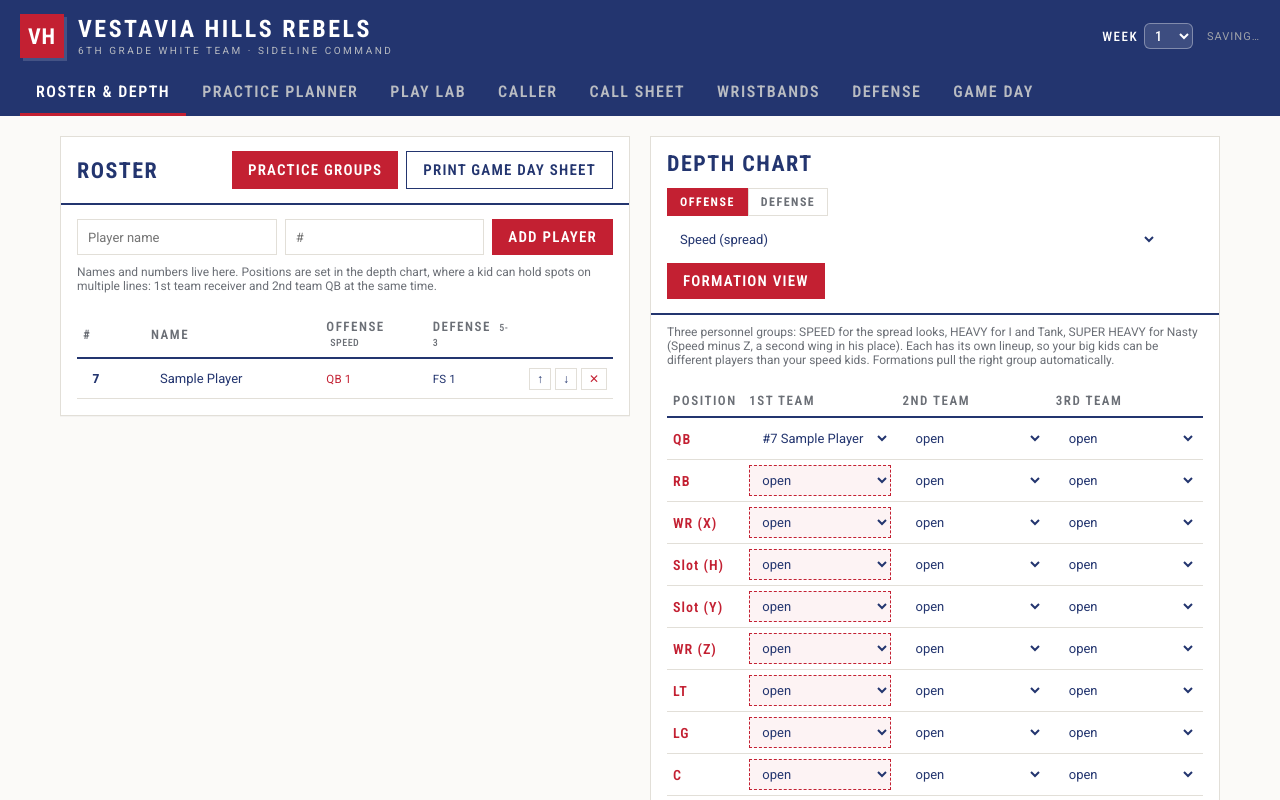
it: supabase sync › Print Cards works from inside Formation View
Expected: the text "VESTAVIA HILLS REBELS" is shown, [78,16,393,40]
Click the button "Formation View" at (746, 281), box [667,263,825,299]
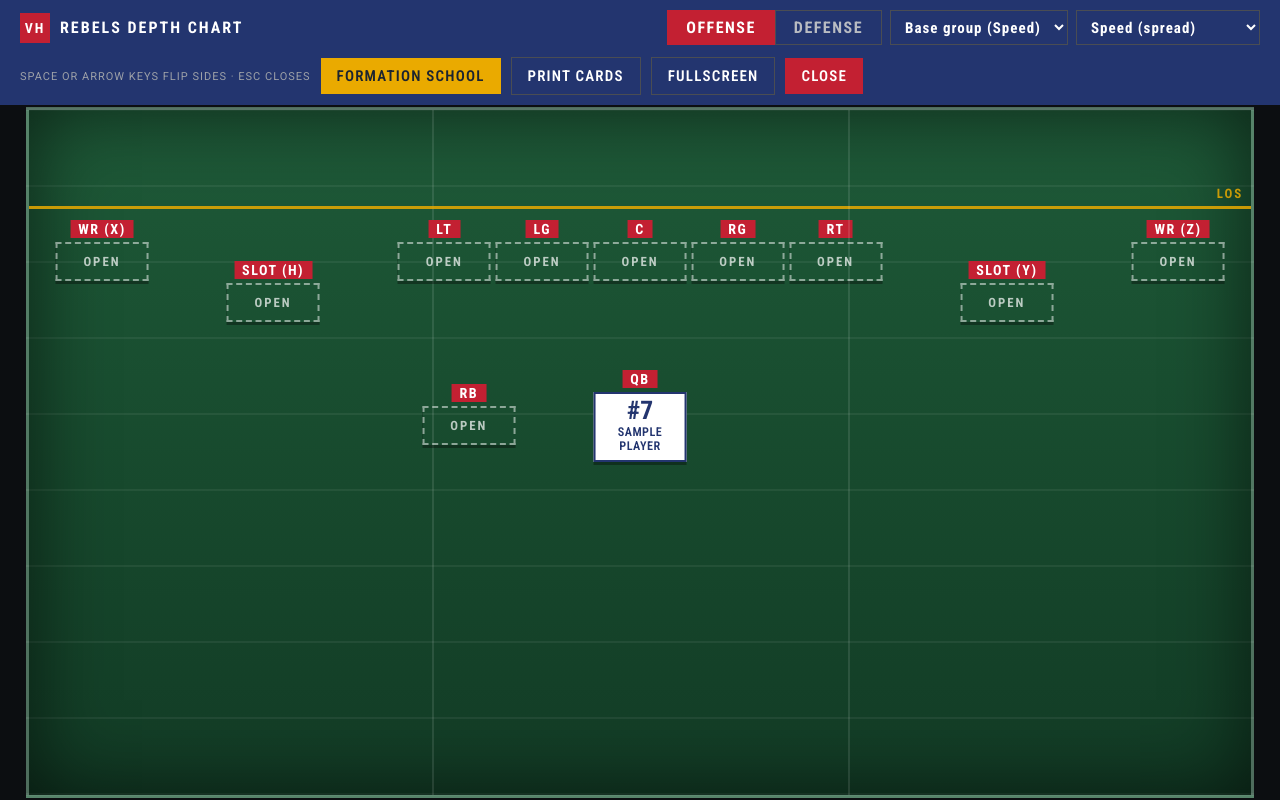
Expected: the element with class "fv-layer" is shown
Click the button "Print Cards" at (576, 76), box [510,57,641,95]
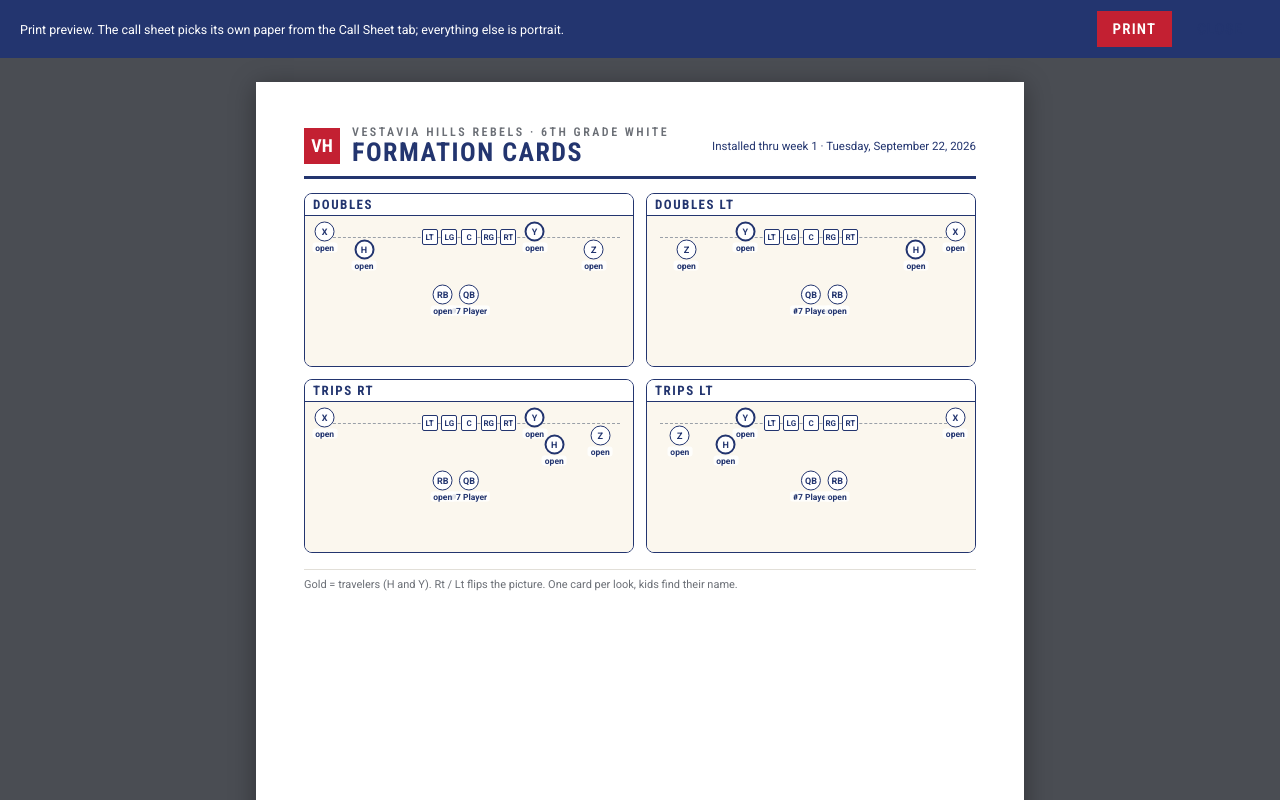
Expected: the element with class "fp-card" that starts with "DOUBLES" is shown, [304,194,634,368]
